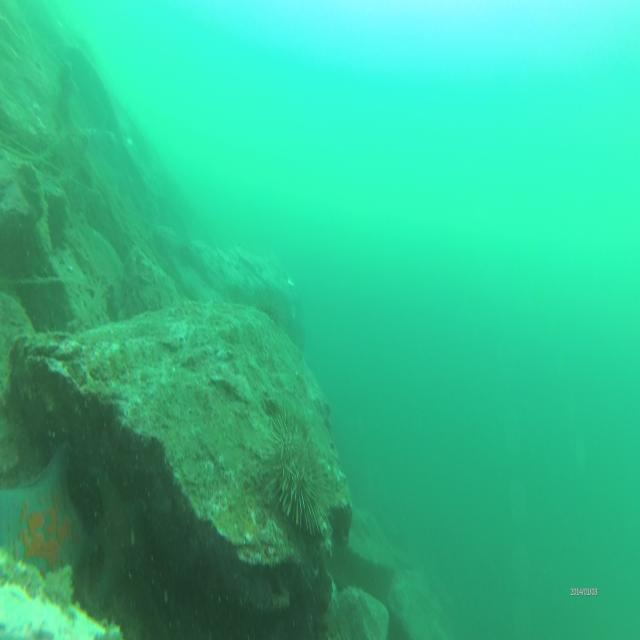echinus: (255, 398, 328, 540)
starfish: (0, 432, 99, 609), (87, 478, 154, 610)
